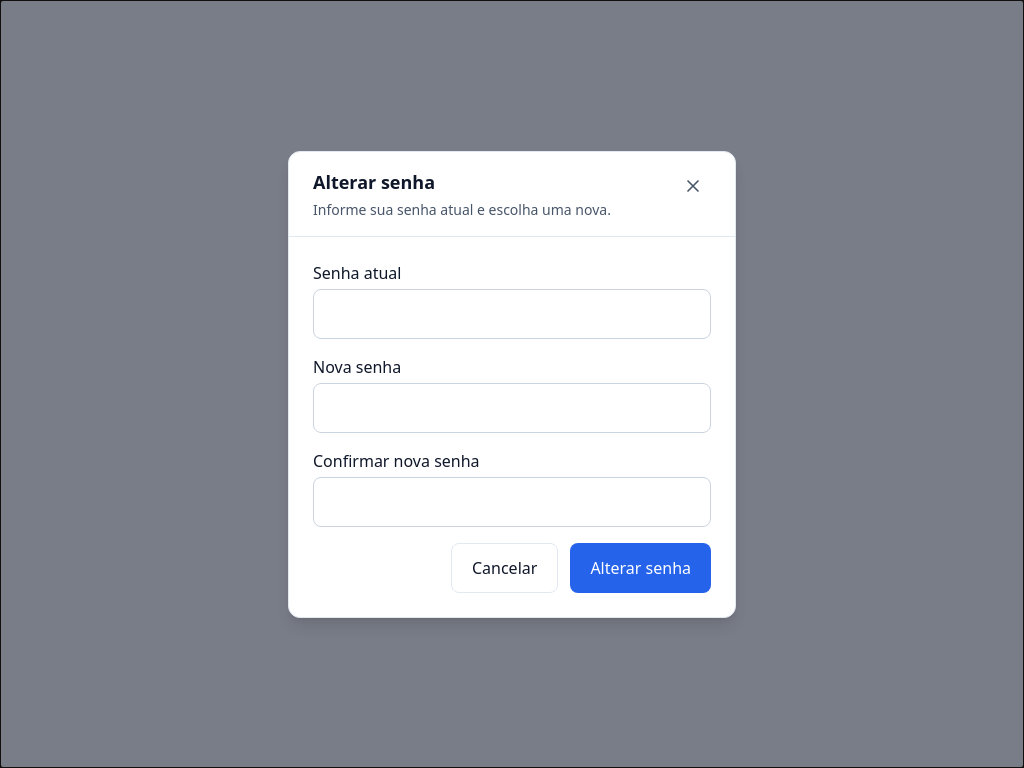
it: ChangePasswordModal › confirmação diferente não envia
In the password field labelled "Senha atual": (512, 314) x1=313 y1=288 x2=711 y2=338, type "SenhaAtual1"
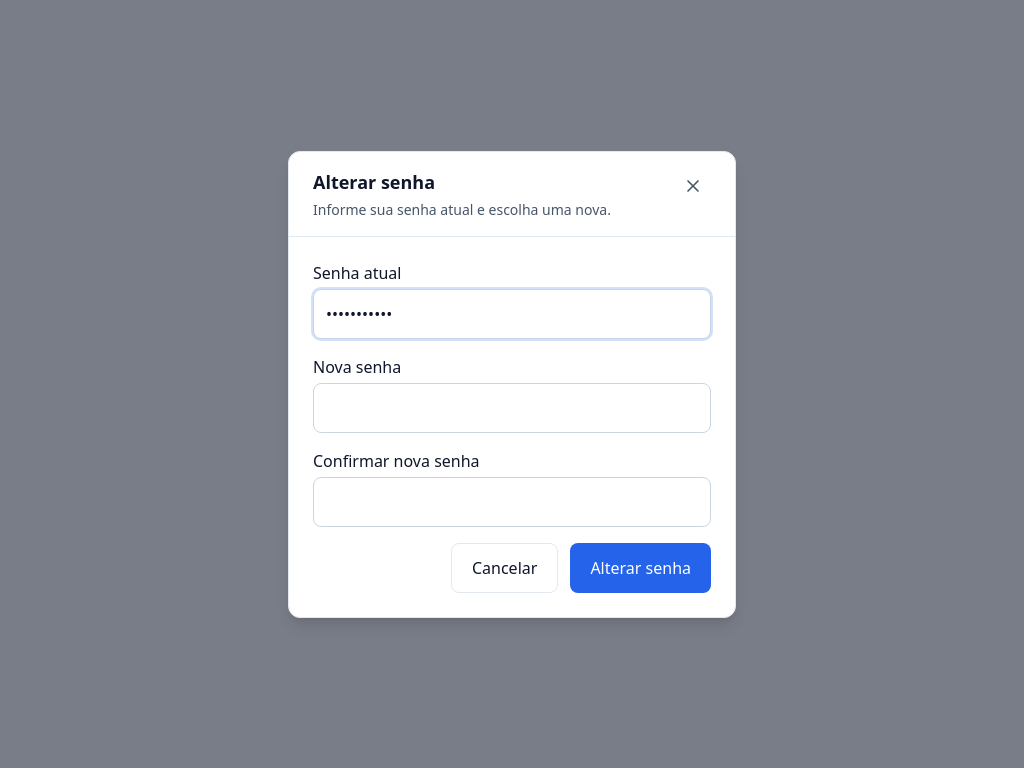
In the password field labelled "Nova senha": (512, 408) x1=313 y1=382 x2=711 y2=432, type "NovaSenha123"
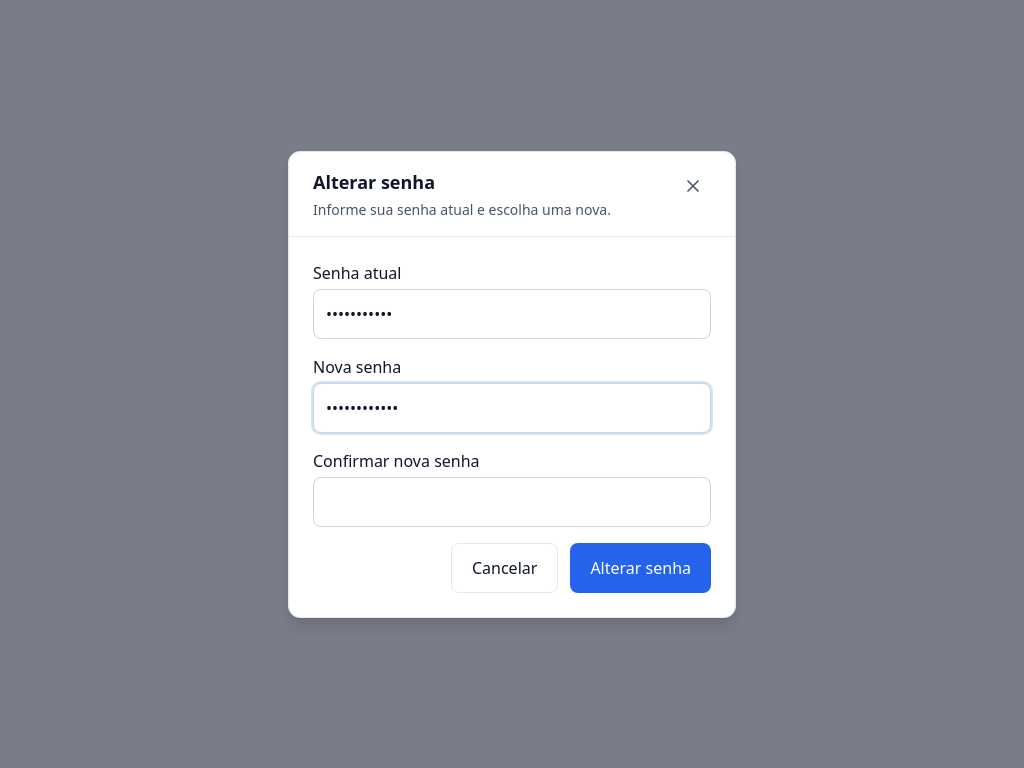
In the password field labelled "Confirmar nova senha": (512, 502) x1=313 y1=476 x2=711 y2=526, type "Outra123456"
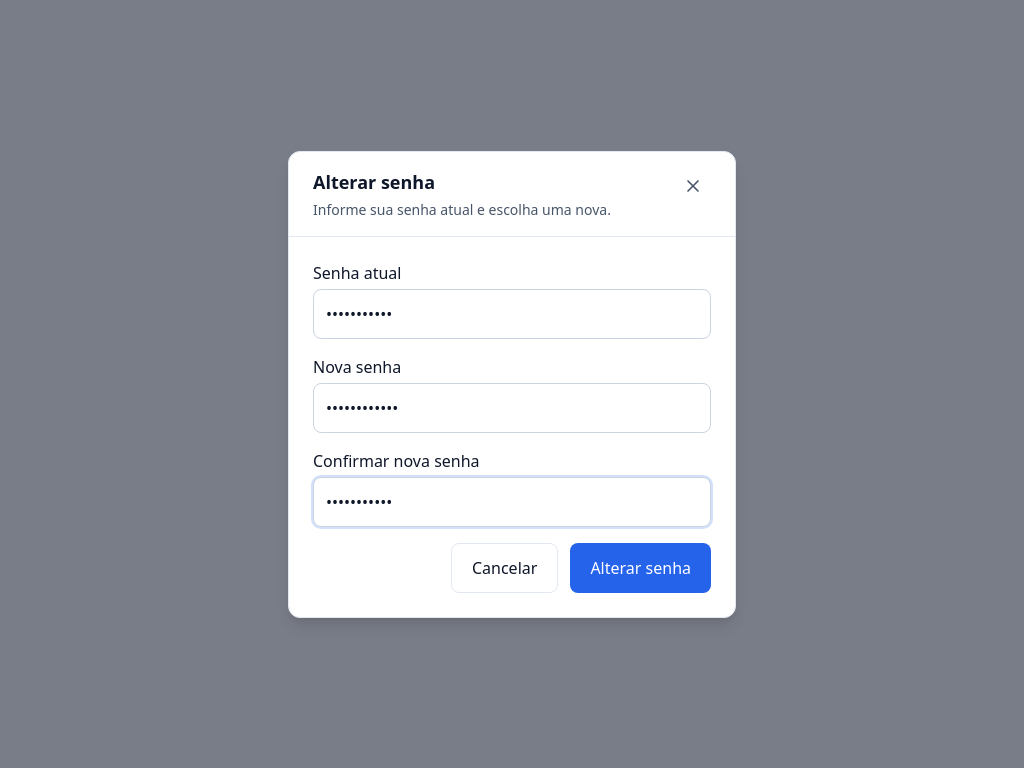
Click the button "Alterar senha": (641, 568) x1=570 y1=542 x2=711 y2=592
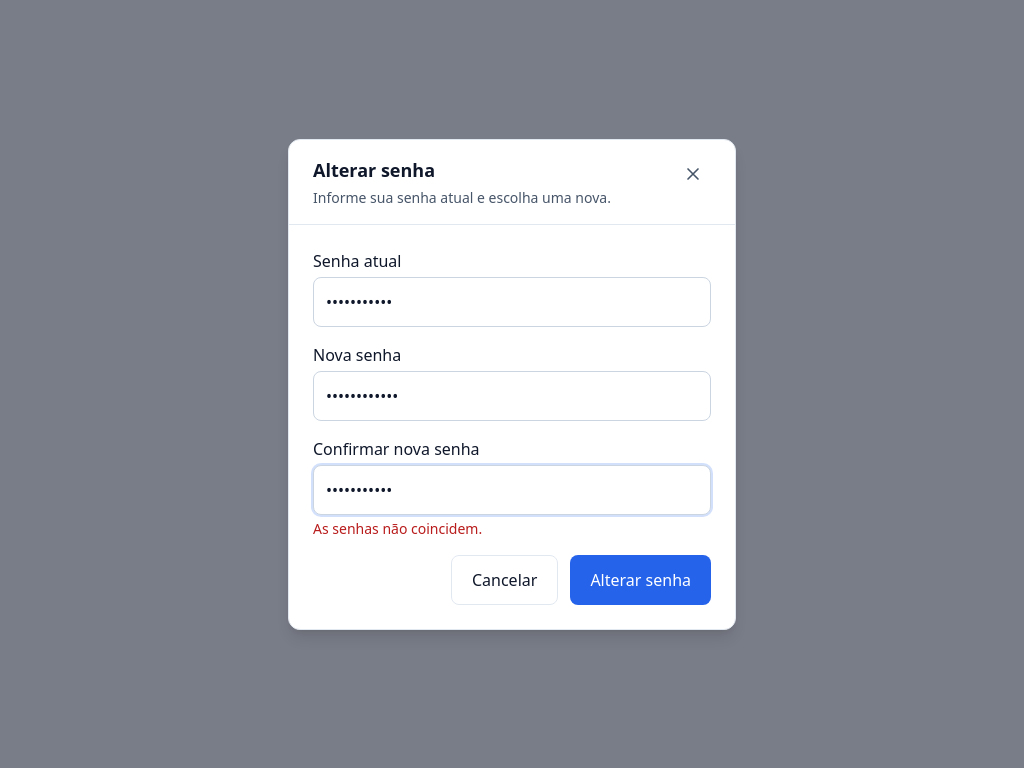
Check: the text "As senhas não coincidem." is shown, box x1=313 y1=518 x2=482 y2=538
